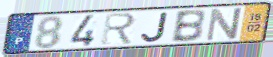4: (68, 13, 98, 48)
8: (33, 15, 65, 50)
B: (170, 8, 208, 44)
J: (140, 11, 170, 43)
N: (203, 6, 244, 43)
R: (100, 12, 138, 46)
